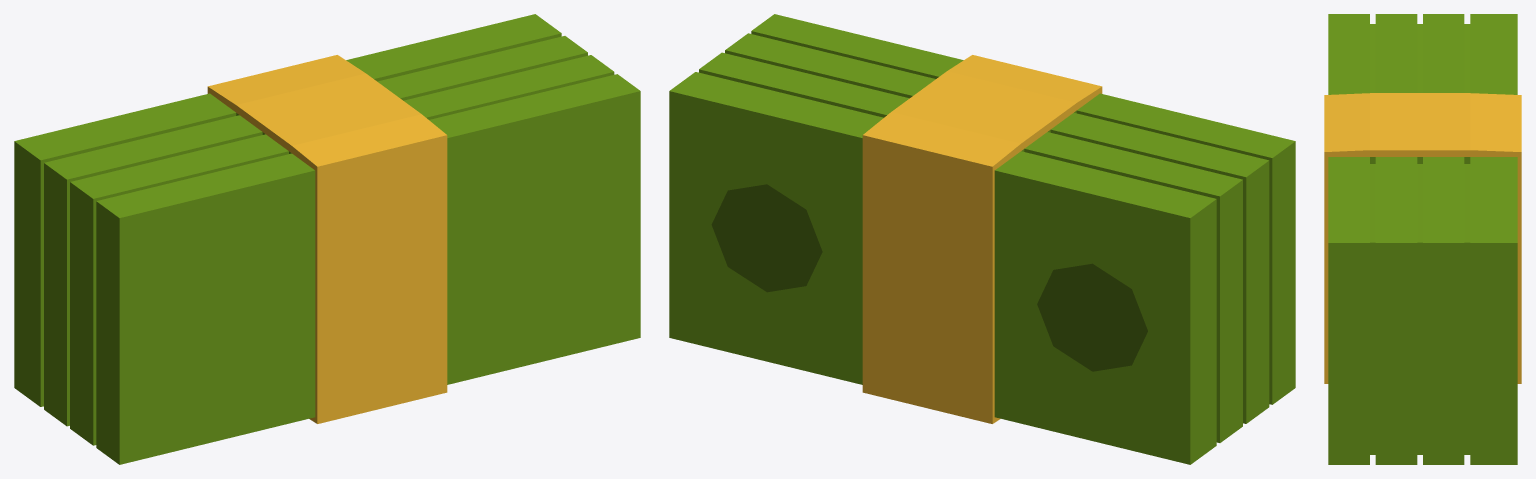
The model's file is money 1.fbx.
3 views of the same model, side by side, from view 1: azimuth 30°, elevation 25°; view 2: azimuth 150°, elevation 25°; view 3: azimuth 270°, elevation 25° (orthographic). The views are drawn at different scales.
Visible parts, largest first — view 1: money; view 2: money; view 3: money.
Boxes of the visible parts, x1,y1,x2,y2 form: money: (14,14,640,464); money: (669,14,1295,464); money: (1324,14,1521,464).
Bounding box in the file's own units: 4 × 1.92 × 1.46.
